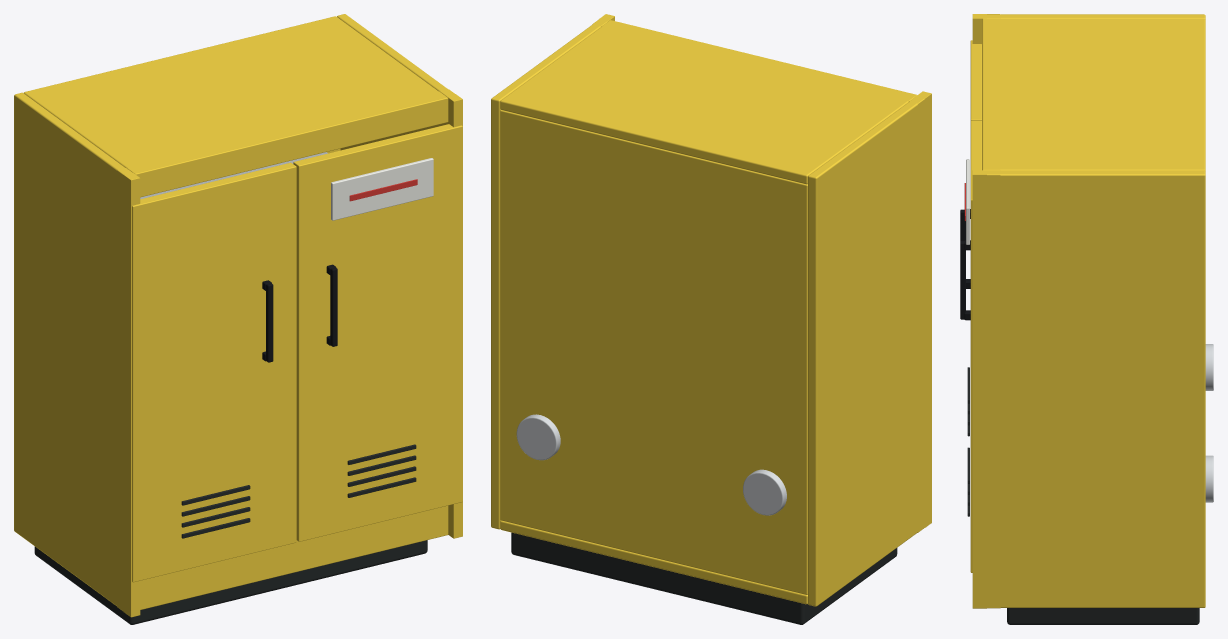
Rendered from flammable-cabinet.glb.
3 renders of one model, left to right at view 1: azimuth 30°, elevation 25°; view 2: azimuth 150°, elevation 25°; view 3: azimuth 270°, elevation 25°, orthographic.
Parts seen in each view (by area): view 1: Runtime batch - Safety cabinet yellow, Runtime batch - __moving__Access - Safety cabinet door 2, Runtime batch - __moving__Access - Safety cabinet door 1, Runtime batch - Casework seam shadow; view 2: Runtime batch - Safety cabinet yellow, Runtime batch - Casework seam shadow, Runtime batch - __moving__Access - Safety cabinet door 2, Runtime batch - __moving__Access - Safety cabinet door 1; view 3: Runtime batch - Safety cabinet yellow, Runtime batch - __moving__Access - Safety cabinet door 2, Runtime batch - Casework seam shadow, Runtime batch - __moving__Access - Safety cabinet door 1.
Part boxes in pixels (bbox=[...]): Runtime batch - Safety cabinet yellow: bbox=[14, 14, 462, 617]; Runtime batch - __moving__Access - Safety cabinet door 2: bbox=[293, 124, 462, 541]; Runtime batch - __moving__Access - Safety cabinet door 1: bbox=[132, 162, 296, 582]; Runtime batch - Casework seam shadow: bbox=[34, 540, 427, 624]; Runtime batch - Safety cabinet yellow: bbox=[491, 14, 931, 606]; Runtime batch - Casework seam shadow: bbox=[511, 532, 897, 624]; Runtime batch - __moving__Access - Safety cabinet door 2: bbox=[516, 414, 560, 460]; Runtime batch - __moving__Access - Safety cabinet door 1: bbox=[743, 469, 786, 515]; Runtime batch - Safety cabinet yellow: bbox=[972, 14, 1205, 608]; Runtime batch - __moving__Access - Safety cabinet door 2: bbox=[960, 120, 1213, 572]; Runtime batch - Casework seam shadow: bbox=[1007, 608, 1199, 624]; Runtime batch - __moving__Access - Safety cabinet door 1: bbox=[960, 40, 1213, 436].
Size of the model in its own units: 0.9 by 1.2 by 0.6.
